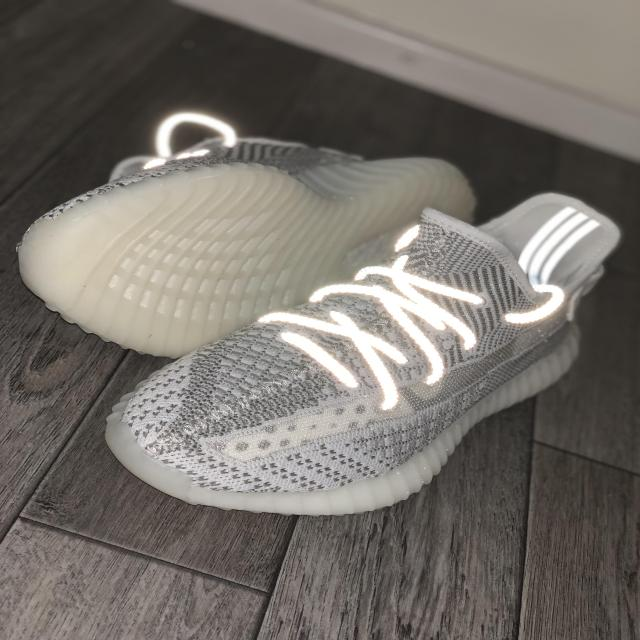shoes: (103, 190, 618, 512), (12, 110, 484, 358)
